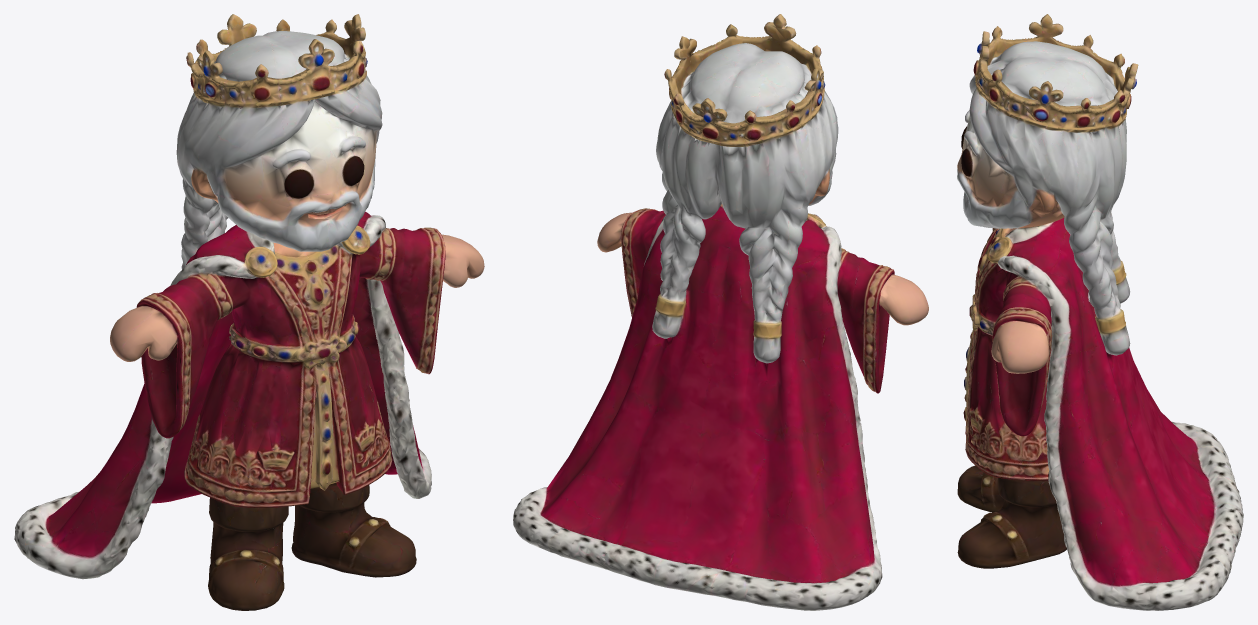
File: a3D-rey.glb
3 renders of one model, left to right at view 1: azimuth 30°, elevation 25°; view 2: azimuth 150°, elevation 25°; view 3: azimuth 270°, elevation 25°, orthographic. The views are drawn at different scales.
Visible parts, largest first — view 1: geometry_0; view 2: geometry_0; view 3: geometry_0.
Boxes of the visible parts, x1=… form: geometry_0: x1=14, y1=14, x2=484, y2=610; geometry_0: x1=513, y1=14, x2=928, y2=610; geometry_0: x1=957, y1=14, x2=1243, y2=610.
Bounding box in the file's own units: 1.44 × 1.9 × 0.9976.
1 material, 1 textured.
